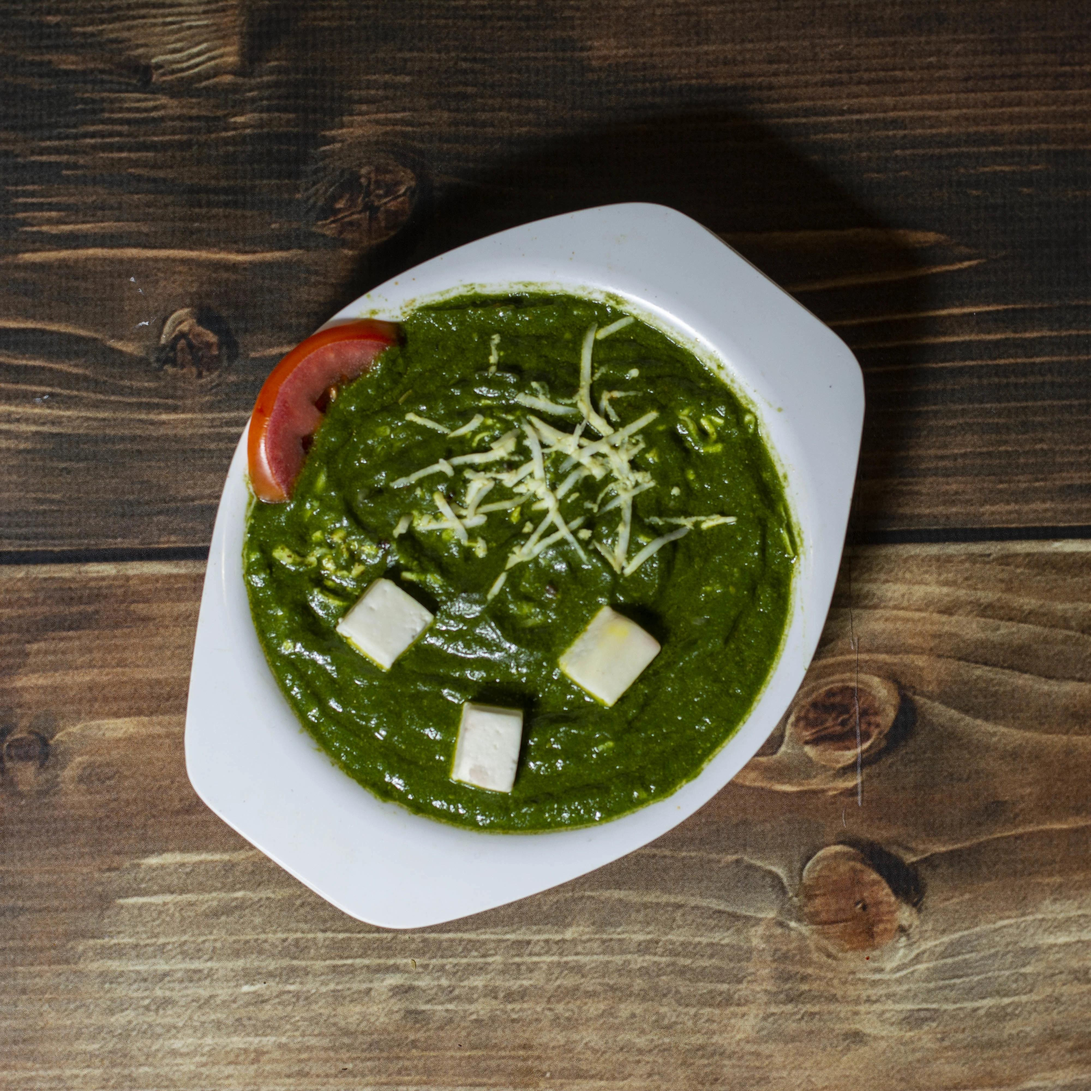PalakPaneer: (241, 286, 797, 829)
